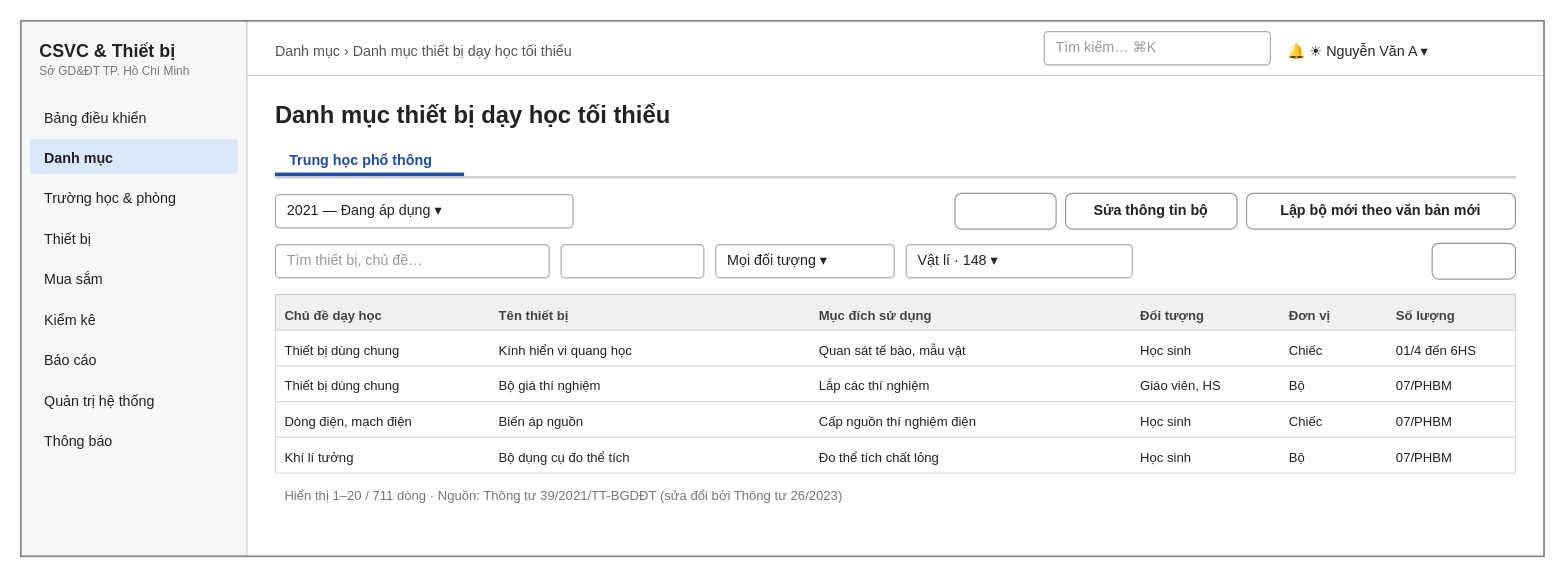
Image size: 1566x578. Some labels were removed from this diagram. Each missing label, with the box of its shape:
Hồ sơ bộ: (954, 192, 1056, 229)
Tất cả lớp ▾: (560, 243, 704, 278)
Xuất ▾: (1431, 242, 1515, 279)
